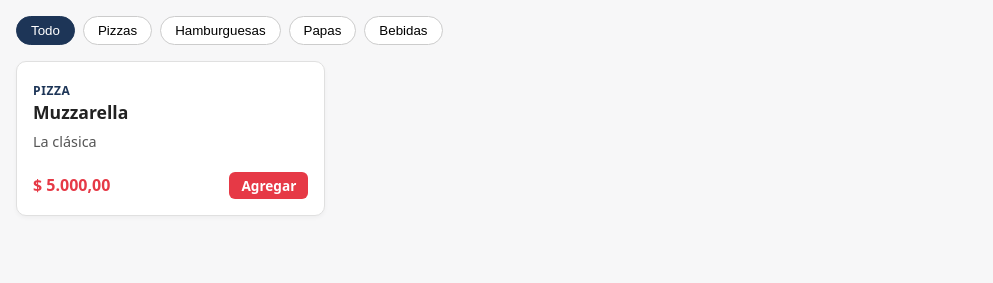
Test: <CatalogPage> › con sesión, agregar al carrito muestra confirmación
Click the button "Agregar".
click(269, 185)  # box [229, 172, 308, 199]
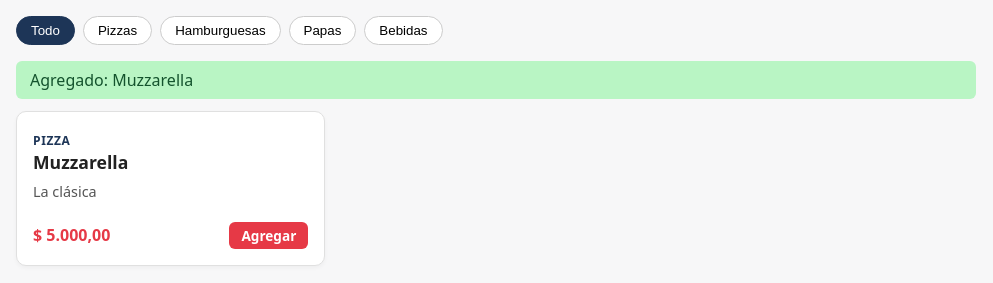
Result: the text "Agregado: Muzzarella" is shown at [16, 61, 976, 99]
